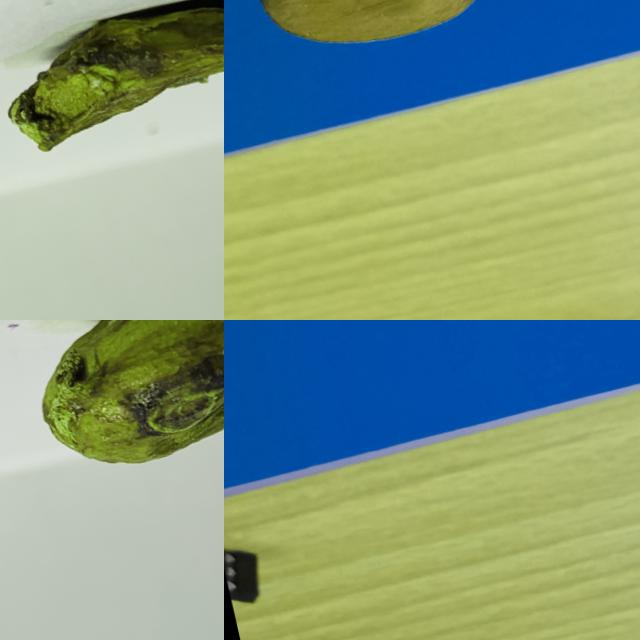Agglomerated_cocoabeans: (224, 320, 639, 392)
Fine_cocoabeans: (224, 0, 603, 118), (0, 320, 223, 509)
Flat_cocoabeans: (0, 0, 223, 181)
